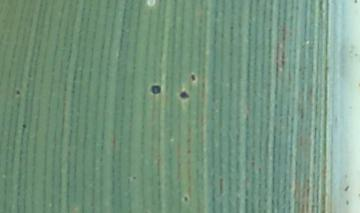tarspot: (149, 83, 161, 96), (178, 90, 190, 101), (343, 184, 351, 194), (189, 73, 196, 83), (14, 89, 22, 97), (182, 194, 189, 203), (344, 196, 350, 206), (130, 174, 138, 181), (21, 122, 27, 130), (228, 24, 234, 31), (352, 1, 358, 5)
